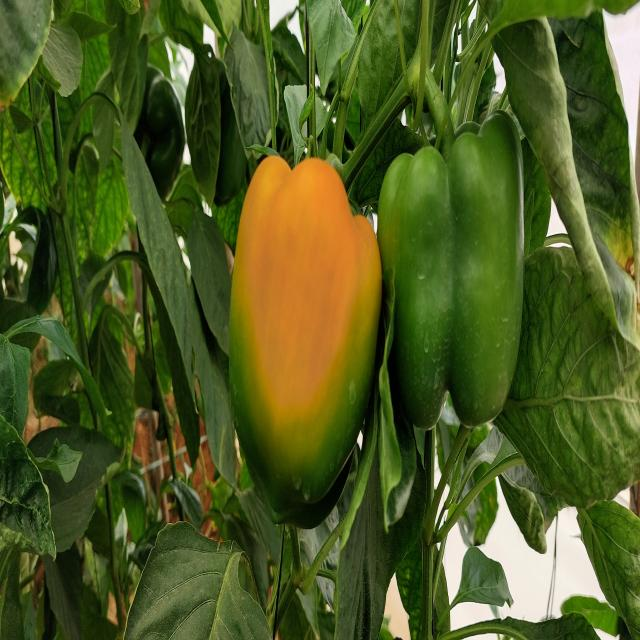Green--Not-ready-to-harvest: (374, 94, 544, 438)
GreenishYellow--Can-be-Harvested: (220, 150, 387, 507)
